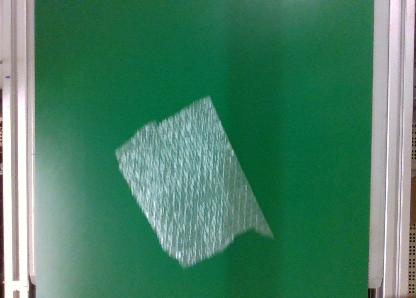Others: (110, 95, 276, 267)
